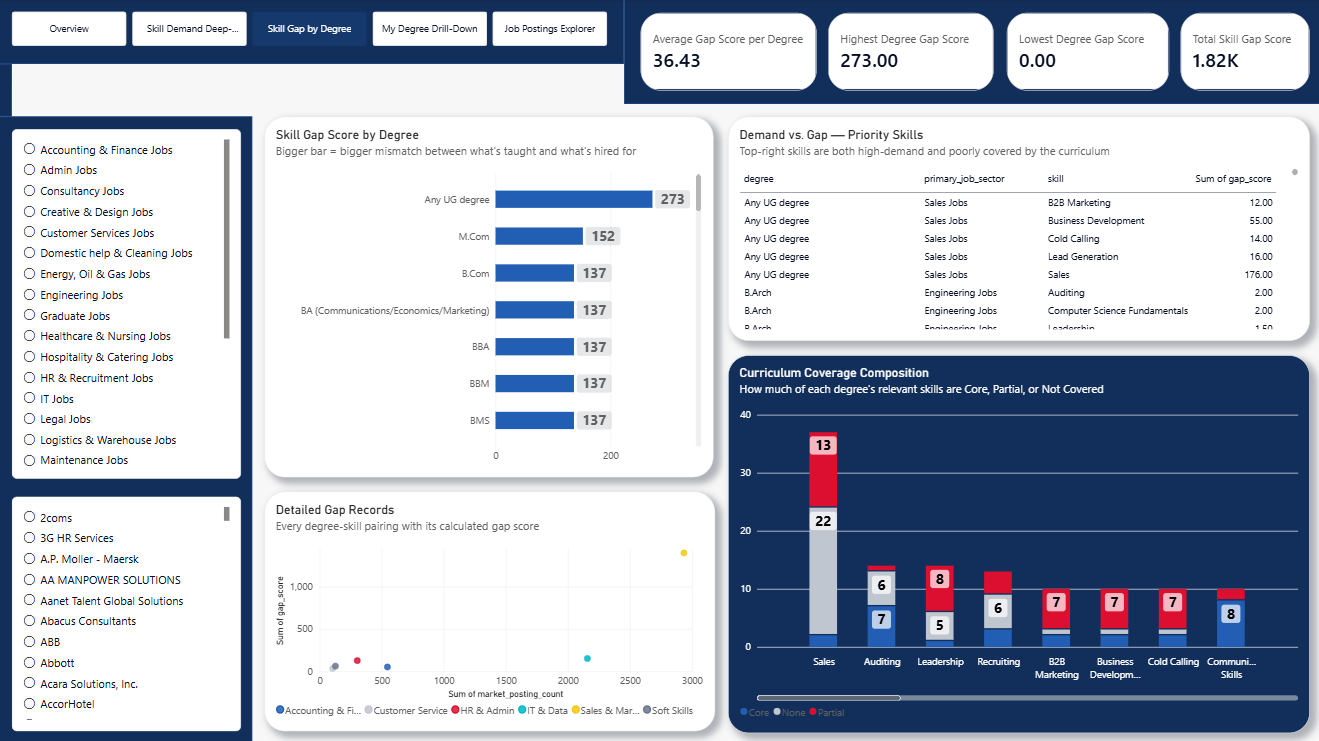

The dashboard page shown, as its layout file describes it:
{"tool":"powerbi","page":{"name":"Skill Gap by Degree","canvas":[1920,1080],"ordinal":2},"visuals":[{"type":"shape","box":[906,0,1014,152],"z":0},{"type":"cardVisual","fields":{"Data":["_Measure.Average Gap Score per Degree"]},"box":[930,20,255,112.5],"z":1000},{"type":"cardVisual","fields":{"Data":["_Measure.Highest Degree Gap Score"]},"box":[1202.5,20,240,112.5],"z":2000},{"type":"cardVisual","fields":{"Data":["_Measure.Total Skill Gap Score"]},"box":[1712.5,20,187.5,112.5],"z":3000},{"type":"cardVisual","fields":{"Data":["_Measure.Lowest Degree Gap Score"]},"box":[1460,20,235,112.5],"z":4000},{"type":"barChart","title":"Skill Gap Score by Degree","fields":{"Category":["skill_gap_by_degree.degree"],"Y":["Sum(skill_gap_by_degree.gap_score)"]},"box":[385,170,650,522.5],"z":5000},{"type":"scatterChart","title":"Detailed Gap Records","fields":{"X":["Sum(skill_gap_by_degree.market_posting_count)"],"Y":["Sum(skill_gap_by_degree.gap_score)"],"Series":["skill_gap_by_degree.skill_category"]},"box":[385,712.5,652.5,347.5],"z":6000},{"type":"tableEx","title":"Demand vs. Gap — Priority Skills","fields":{"Values":["skill_gap_by_degree.degree","skill_gap_by_degree.primary_job_sector","skill_gap_by_degree.skill","Sum(skill_gap_by_degree.gap_score)"]},"box":[1057.5,170,842.5,325],"z":7000},{"type":"lineStackedColumnComboChart","title":"Curriculum Coverage Composition","fields":{"Category":["skill_gap_by_degree.skill"],"Y":["CountNonNull(skill_gap_by_degree.degree)"],"Series":["skill_gap_by_degree.degree_coverage_level"]},"box":[1057.5,515,842.5,547.5],"z":8000},{"type":"shape","box":[0,0,906,94],"z":9000},{"type":"pageNavigator","box":[20,18,866,50],"z":10000},{"type":"shape","box":[0,94,20,76],"z":11000},{"type":"shape","box":[0,170,368,910],"z":12000},{"type":"listSlicer","fields":{"Values":["job_postings_detail.category"]},"box":[20,188,332,506],"z":13000},{"type":"listSlicer","fields":{"Values":["job_postings_detail.company"]},"box":[20,720,332,340],"z":14000}]}

Visuals, with their boxes on the page's 1920x1080 design canvas (x1, y1, x2, y2). These are canvas units, not pixel positions in the 1319x741 screenshot, which may show the page scaled, cropped or inside an application window:
shape: 906/0/1920/152
cardVisual - _Measure.Average Gap Score per Degree: 930/20/1185/132
cardVisual - _Measure.Highest Degree Gap Score: 1202/20/1442/132
cardVisual - _Measure.Total Skill Gap Score: 1712/20/1900/132
cardVisual - _Measure.Lowest Degree Gap Score: 1460/20/1695/132
"Skill Gap Score by Degree" barChart: 385/170/1035/692
"Detailed Gap Records" scatterChart: 385/712/1038/1060
"Demand vs. Gap — Priority Skills" tableEx: 1058/170/1900/495
"Curriculum Coverage Composition" lineStackedColumnComboChart: 1058/515/1900/1062
shape: 0/0/906/94
pageNavigator: 20/18/886/68
shape: 0/94/20/170
shape: 0/170/368/1080
listSlicer - job_postings_detail.category: 20/188/352/694
listSlicer - job_postings_detail.company: 20/720/352/1060
